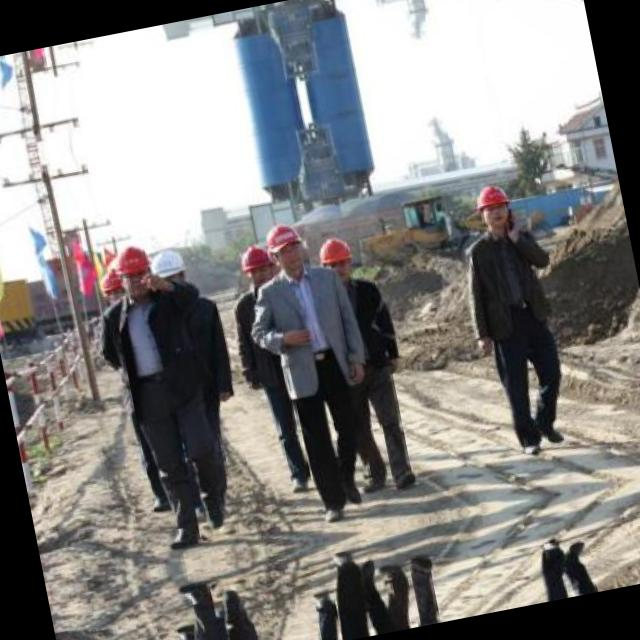helmet: (472, 176, 522, 238), (111, 238, 158, 301), (147, 242, 196, 302), (262, 216, 309, 278), (314, 230, 360, 286), (234, 238, 278, 294), (96, 264, 132, 310)
